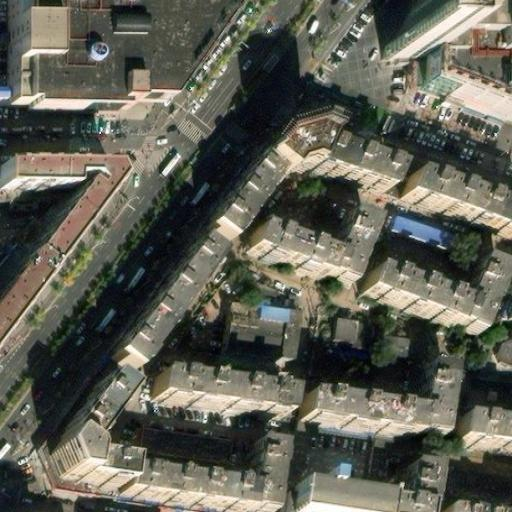building: (3, 0, 241, 120), (50, 384, 272, 512), (0, 165, 117, 340), (204, 140, 388, 245), (119, 245, 223, 375), (307, 362, 453, 438), (355, 257, 494, 332), (253, 211, 372, 289), (286, 457, 425, 512), (403, 174, 512, 241), (155, 373, 287, 419), (223, 303, 299, 362), (142, 424, 228, 459), (387, 212, 456, 254), (455, 410, 512, 451), (443, 498, 511, 512), (331, 316, 360, 346), (494, 336, 512, 370)
